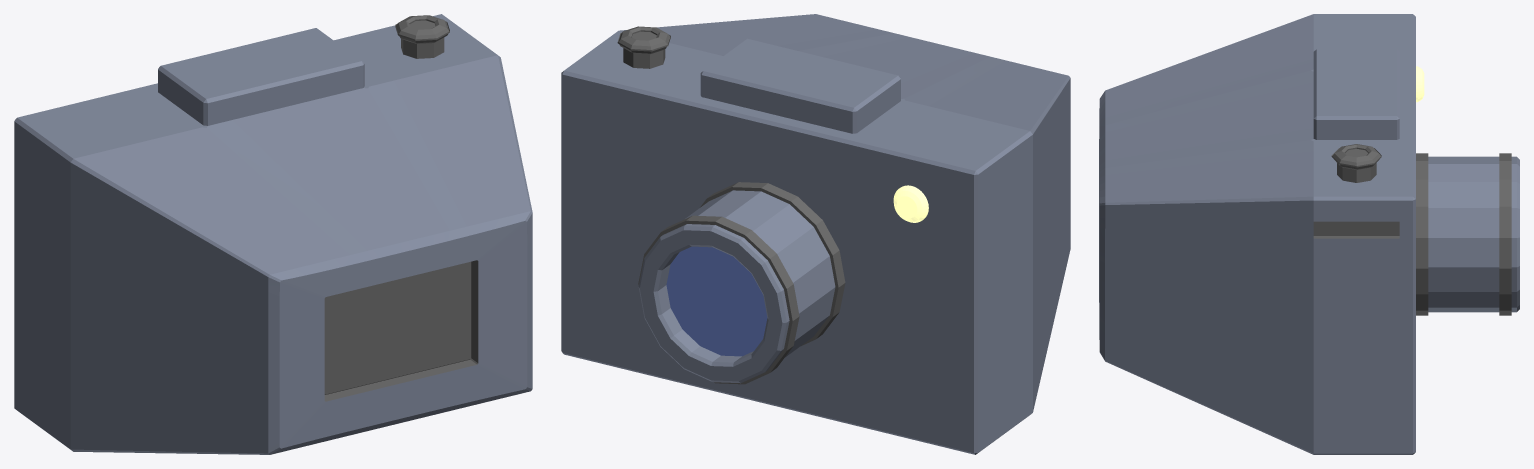
File: fake-camera.glb
The picture shows the model from 3 angles, left to right: view 1: azimuth 30°, elevation 25°; view 2: azimuth 150°, elevation 25°; view 3: azimuth 270°, elevation 25°; orthographic projection. The views are drawn at different scales.
Visible parts, largest first — view 1: Cube, Cube.005, Cube.004; view 2: Cube, Cube.003, Cube.002, Cube.004, Cylinder; view 3: Cube, Cube.002, Cube.001, Cube.004.
Part boxes in pixels (x1,y1,x2,y2): Cube: (14, 14, 532, 454); Cube.005: (324, 260, 478, 401); Cube.004: (395, 15, 449, 58); Cube: (561, 14, 1070, 454); Cube.003: (666, 246, 767, 356); Cube.002: (638, 182, 845, 384); Cube.004: (617, 26, 670, 68); Cylinder: (893, 185, 928, 222); Cube: (1099, 14, 1519, 454); Cube.002: (1416, 153, 1511, 315); Cube.001: (1313, 221, 1399, 238); Cube.004: (1331, 144, 1381, 182).
Size of the model in its own units: 0.3381 by 0.2402 by 0.3248.
